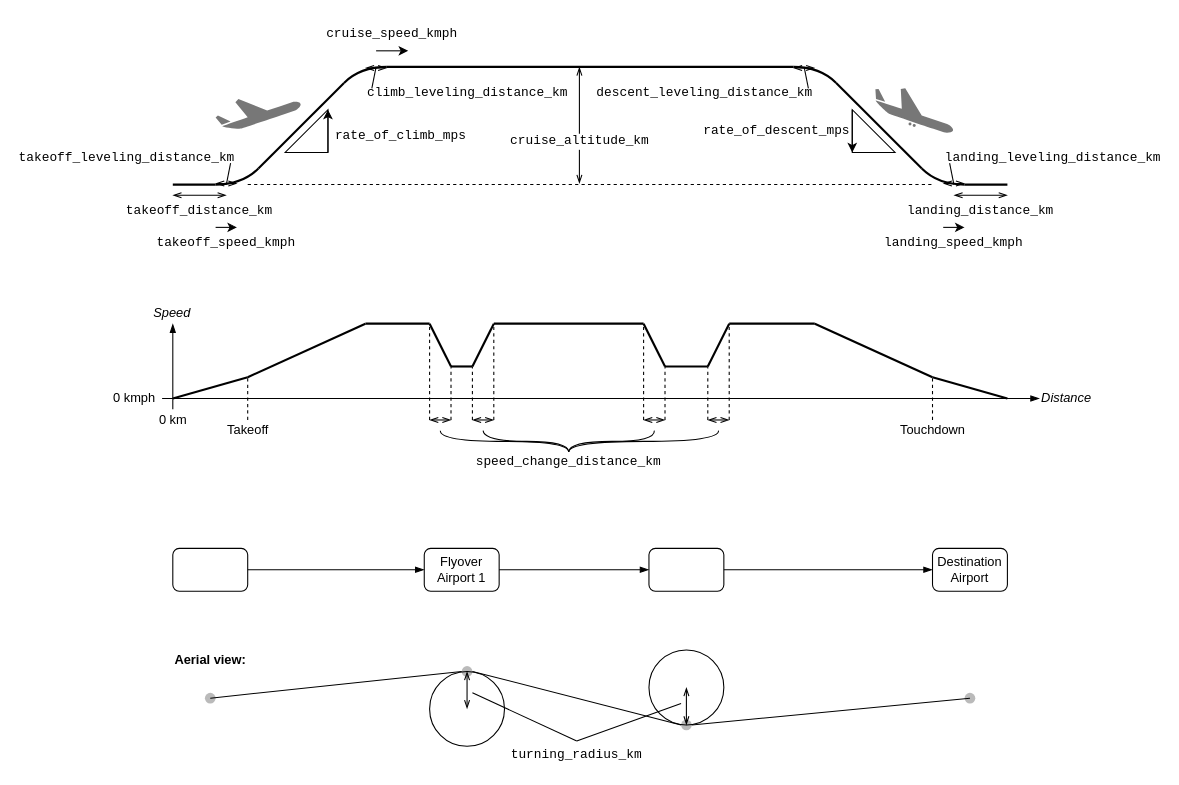
Image size: 1179x785. Some labels were removed from this diagram. The centre of each missing label's shape, as x and y in pixels:
Flyover Airport 2: (x=686, y=569)
Origin Airport: (x=210, y=569)
